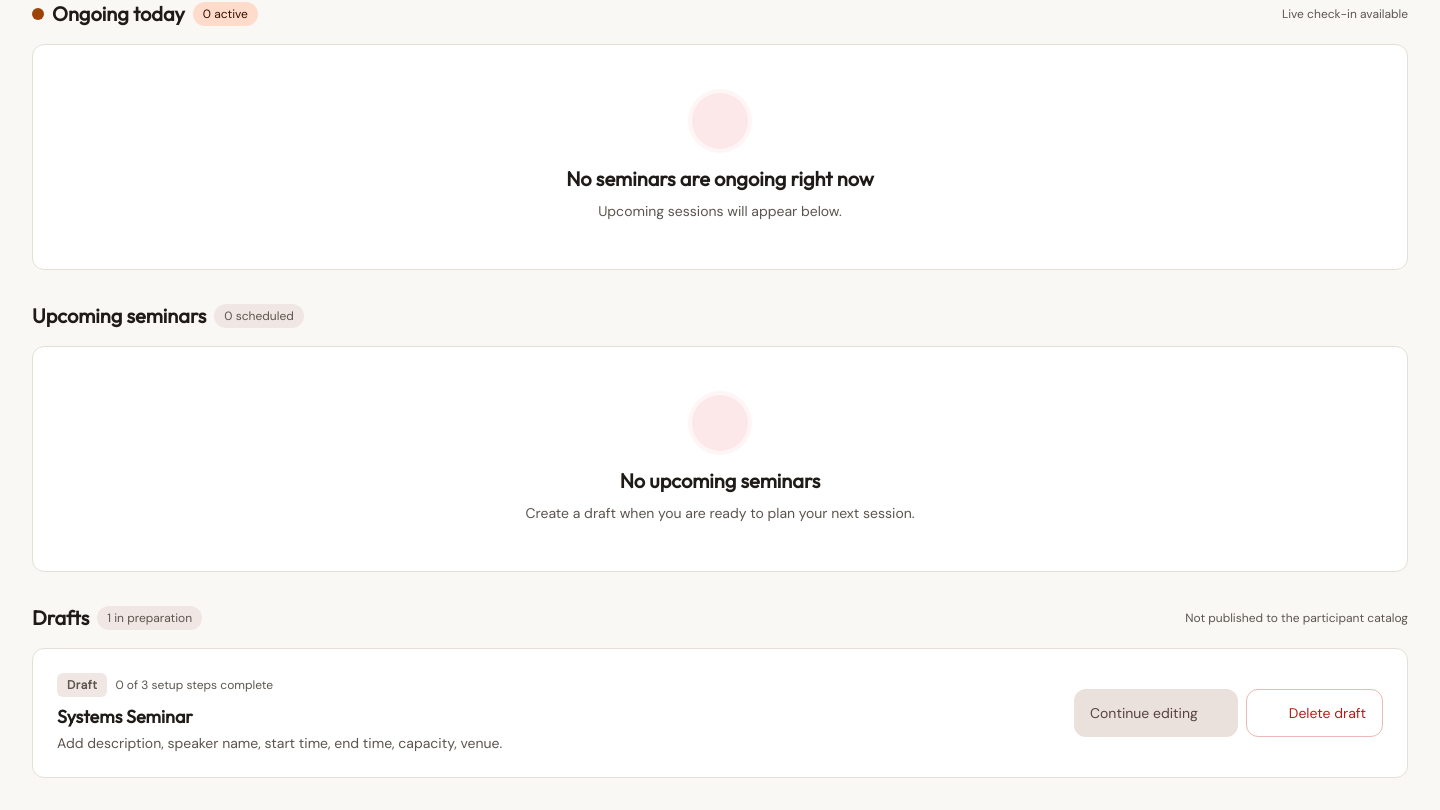
organization draft deletion confirmation › keeps the draft when the confirmation is cancelled
(page scrolled)
Click the button "Delete draft": (1314, 713) [1246,689,1383,737]
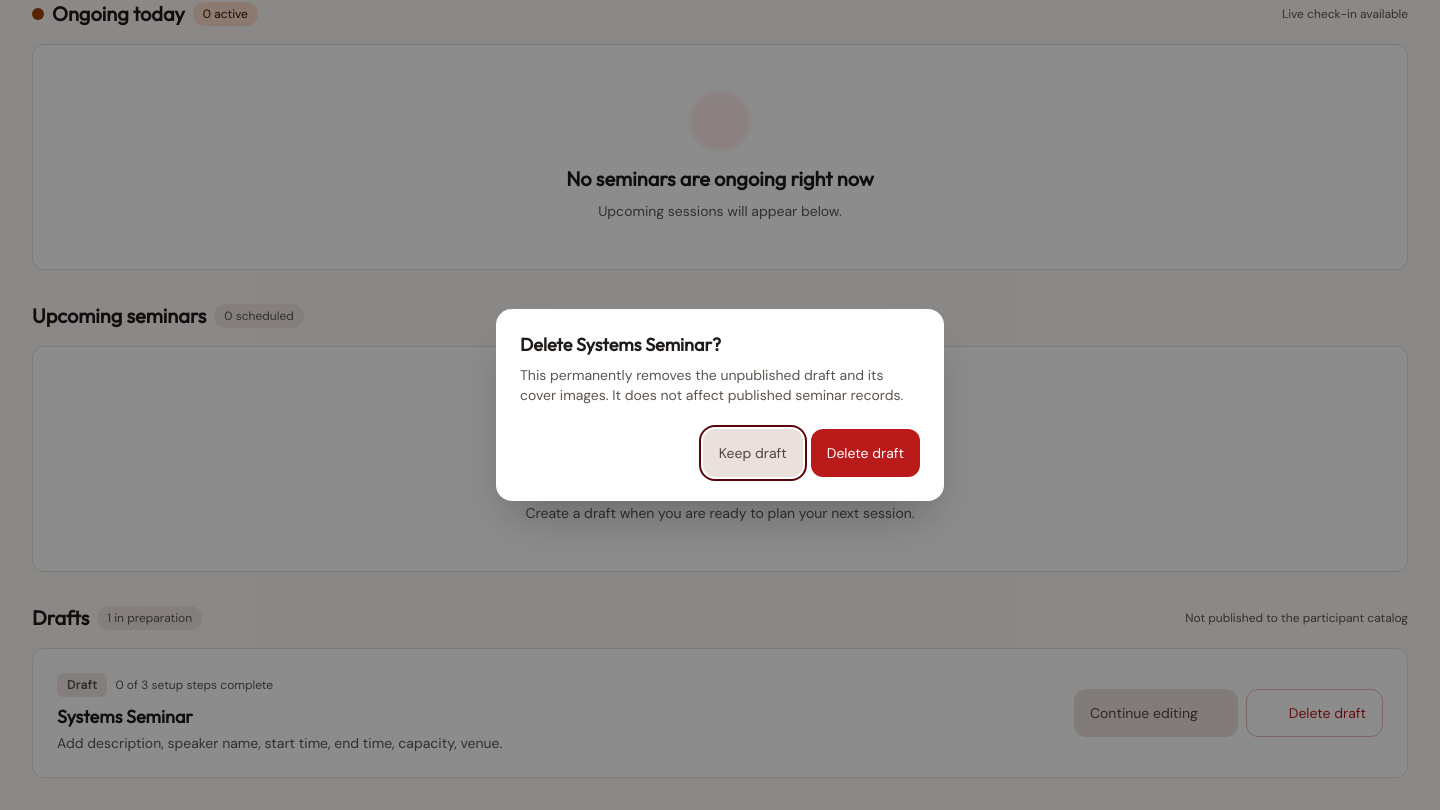
Expected: the dialog is shown, [496,309,944,501]
Expected: the text "permanently removes the unpublished draft and its cover images" is shown, [520,366,903,404]
Click the button "Keep draft": (753, 453) [703,429,803,477]
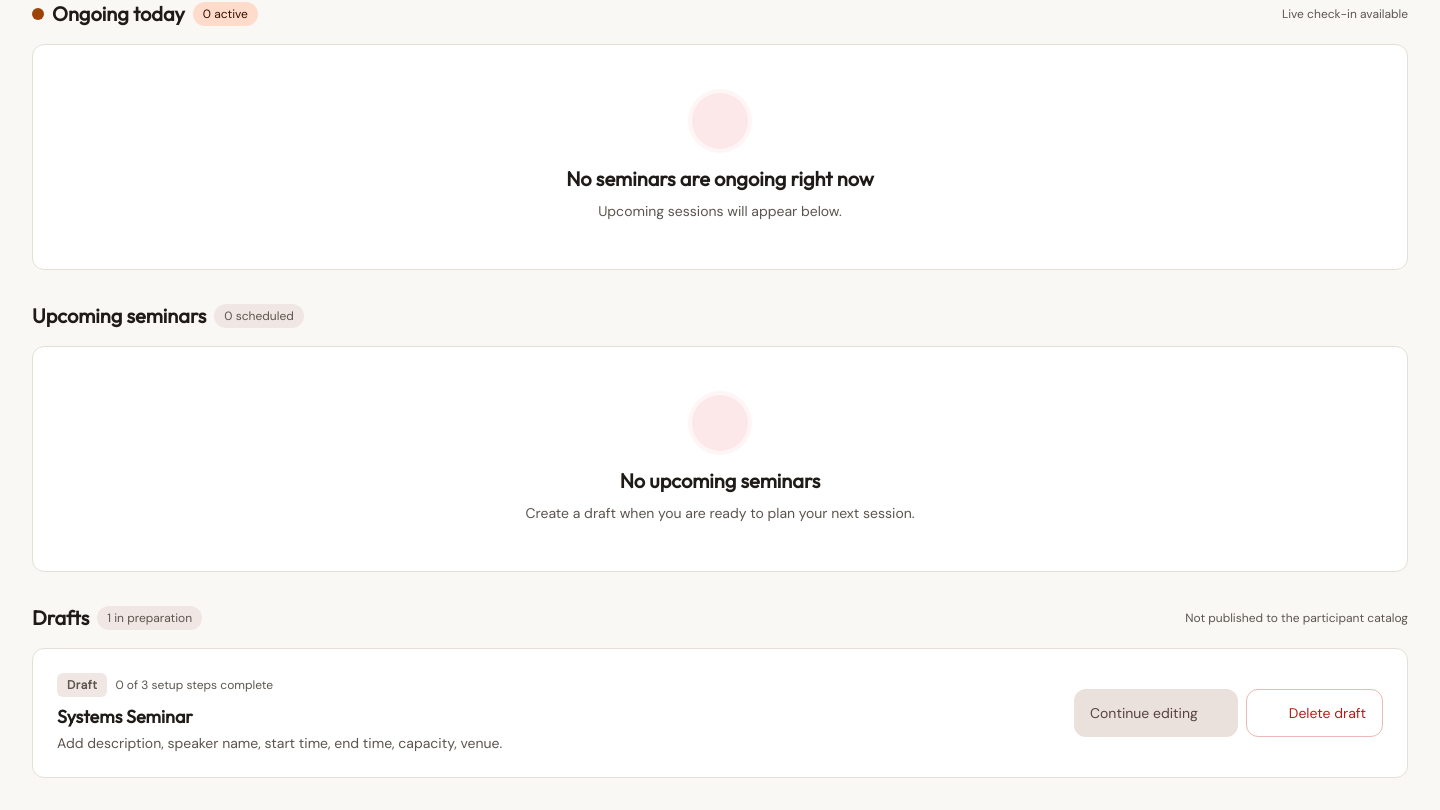
Expected: the dialog is gone
